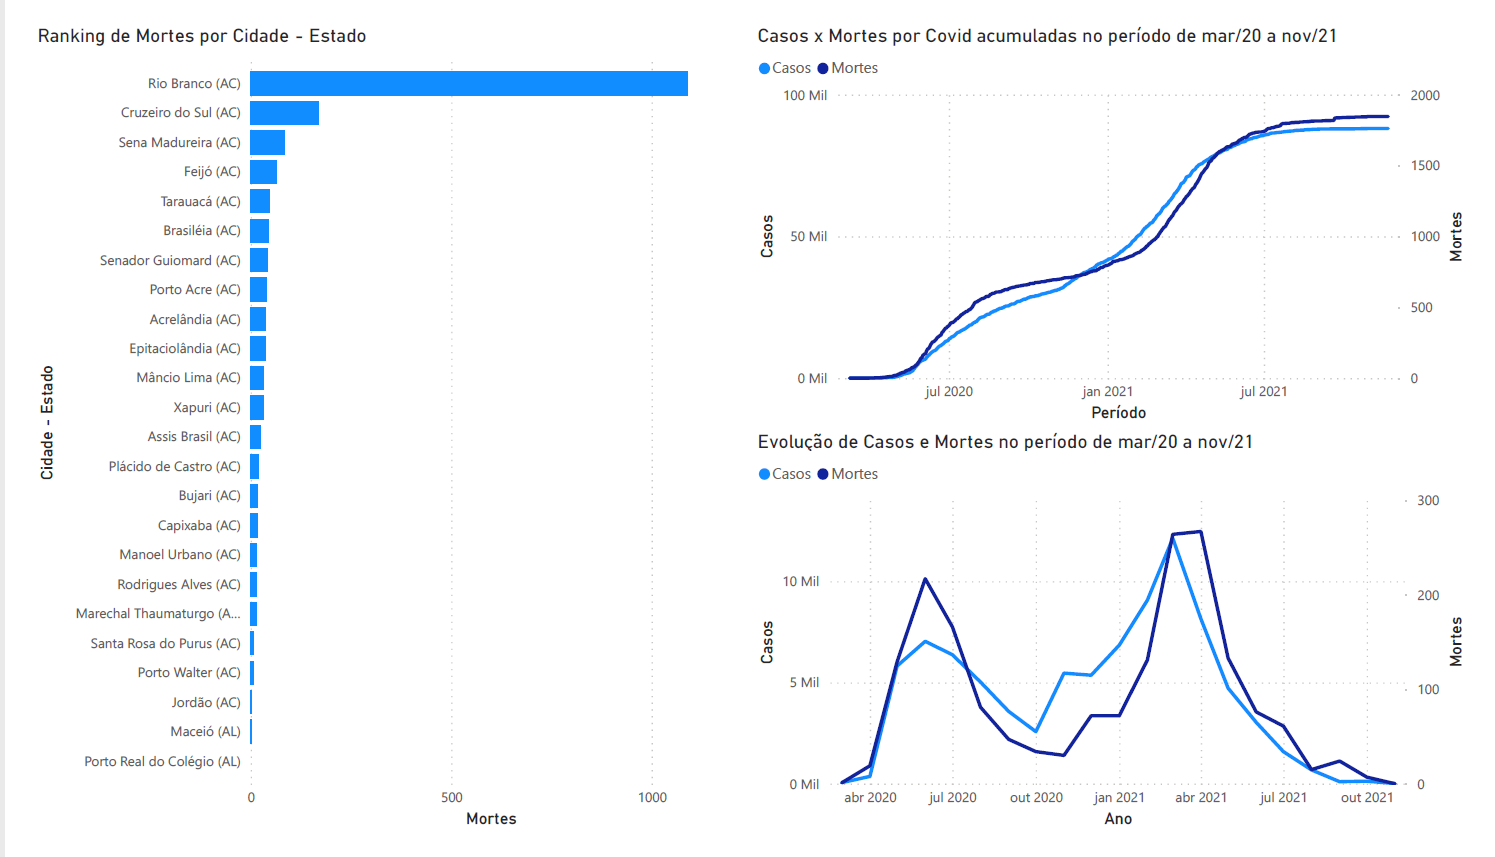

The page's visual inventory and layout, read from the dashboard file:
{"tool":"powerbi","page":{"name":"Página 1","canvas":[1280,720],"ordinal":0},"visuals":[{"type":"lineChart","title":"Casos x Mortes por Covid acumuladas no período de mar/20 a nov/21","fields":{"Y":["teste_dados DADOS_COVID.Casos"],"Category":["teste_dados DADOS_COVID.date"],"Y2":["teste_dados DADOS_COVID.Mortes"]},"box":[640.5,0,639.3,359.4],"z":0},{"type":"lineChart","title":"Evolução de Casos e Mortes no período de mar/20 a nov/21","fields":{"Y":["Sum(teste_dados DADOS_COVID.new_confirmed)"],"Y2":["Sum(teste_dados DADOS_COVID.new_deaths)"],"Category":["teste_dados DADOS_COVID.Período.Variation.Hierarquia de datas.Ano","teste_dados DADOS_COVID.Período.Variation.Hierarquia de datas.Trimestre","teste_dados DADOS_COVID.Período.Variation.Hierarquia de datas.Mês"]},"box":[640.5,360.6,639.3,359.4],"z":1000},{"type":"clusteredBarChart","title":"Ranking de Mortes por Cidade - Estado","fields":{"Y":["Sum(teste_dados DADOS_COVID.new_deaths)"],"Category":["teste_dados DADOS_COVID.Cidade - Estado"]},"box":[0,0,640.5,720],"z":2000}]}

Visuals, with their boxes in screenshot pixels (x1, y1, x2, y2), scaled from the page's 1280x720 canvas onto the 1495x857 screenshot:
"Casos x Mortes por Covid acumuladas no período de mar/20 a nov/21" lineChart: crop(748, 0, 1494, 428)
"Evolução de Casos e Mortes no período de mar/20 a nov/21" lineChart: crop(748, 429, 1494, 856)
"Ranking de Mortes por Cidade - Estado" clusteredBarChart: crop(0, 0, 748, 856)
